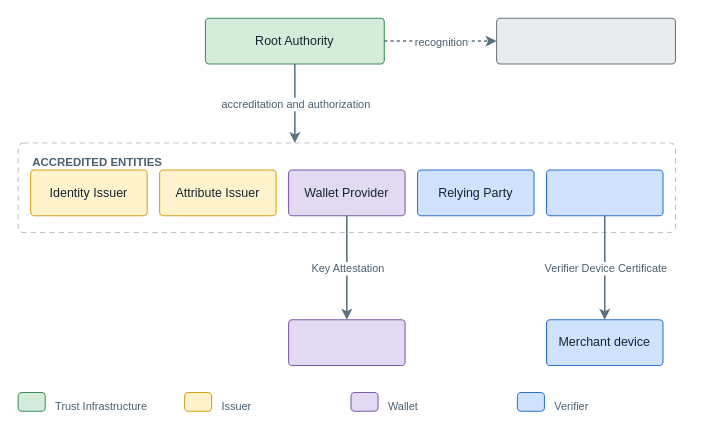
This 727x435 diagram has some shape labels left out. Here are the shapes that lost their labels. From the top down, the centre of each, then its label:
the point at 585,40: Another ecosystem
the point at 604,192: RP Intermediary
the point at 346,342: Citizen's wallet
